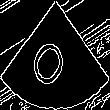O_NE: (31, 22, 79, 88)
